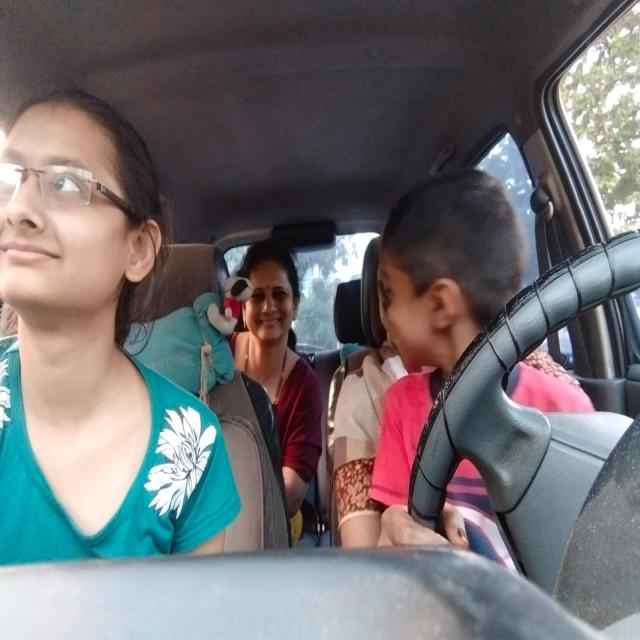child: (384, 170, 535, 382)
person: (1, 94, 169, 378), (234, 225, 305, 352)
